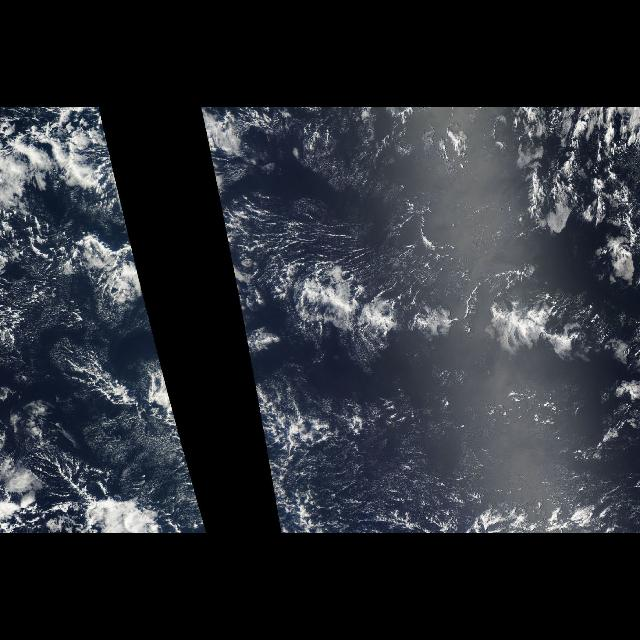Fish: (247, 256, 623, 382)
Gravel: (256, 406, 636, 524), (158, 406, 204, 524)
Sugar: (1, 241, 197, 505), (265, 386, 609, 528)
